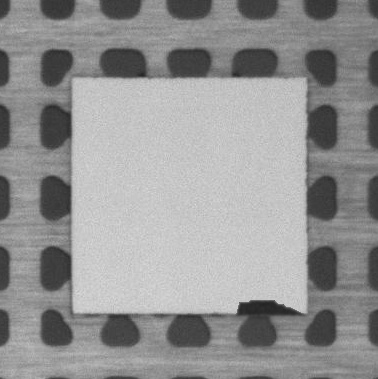DIE_BROKEN: (228, 297, 306, 317)
